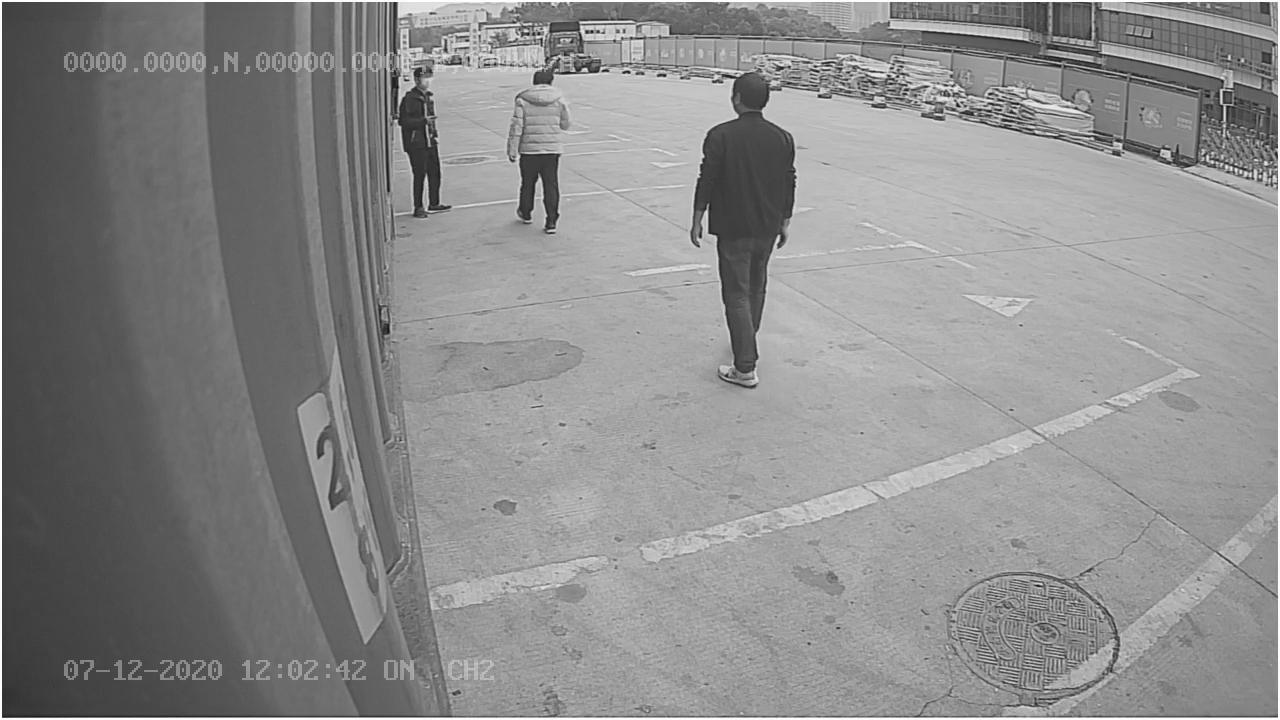person: (691, 71, 807, 388)
